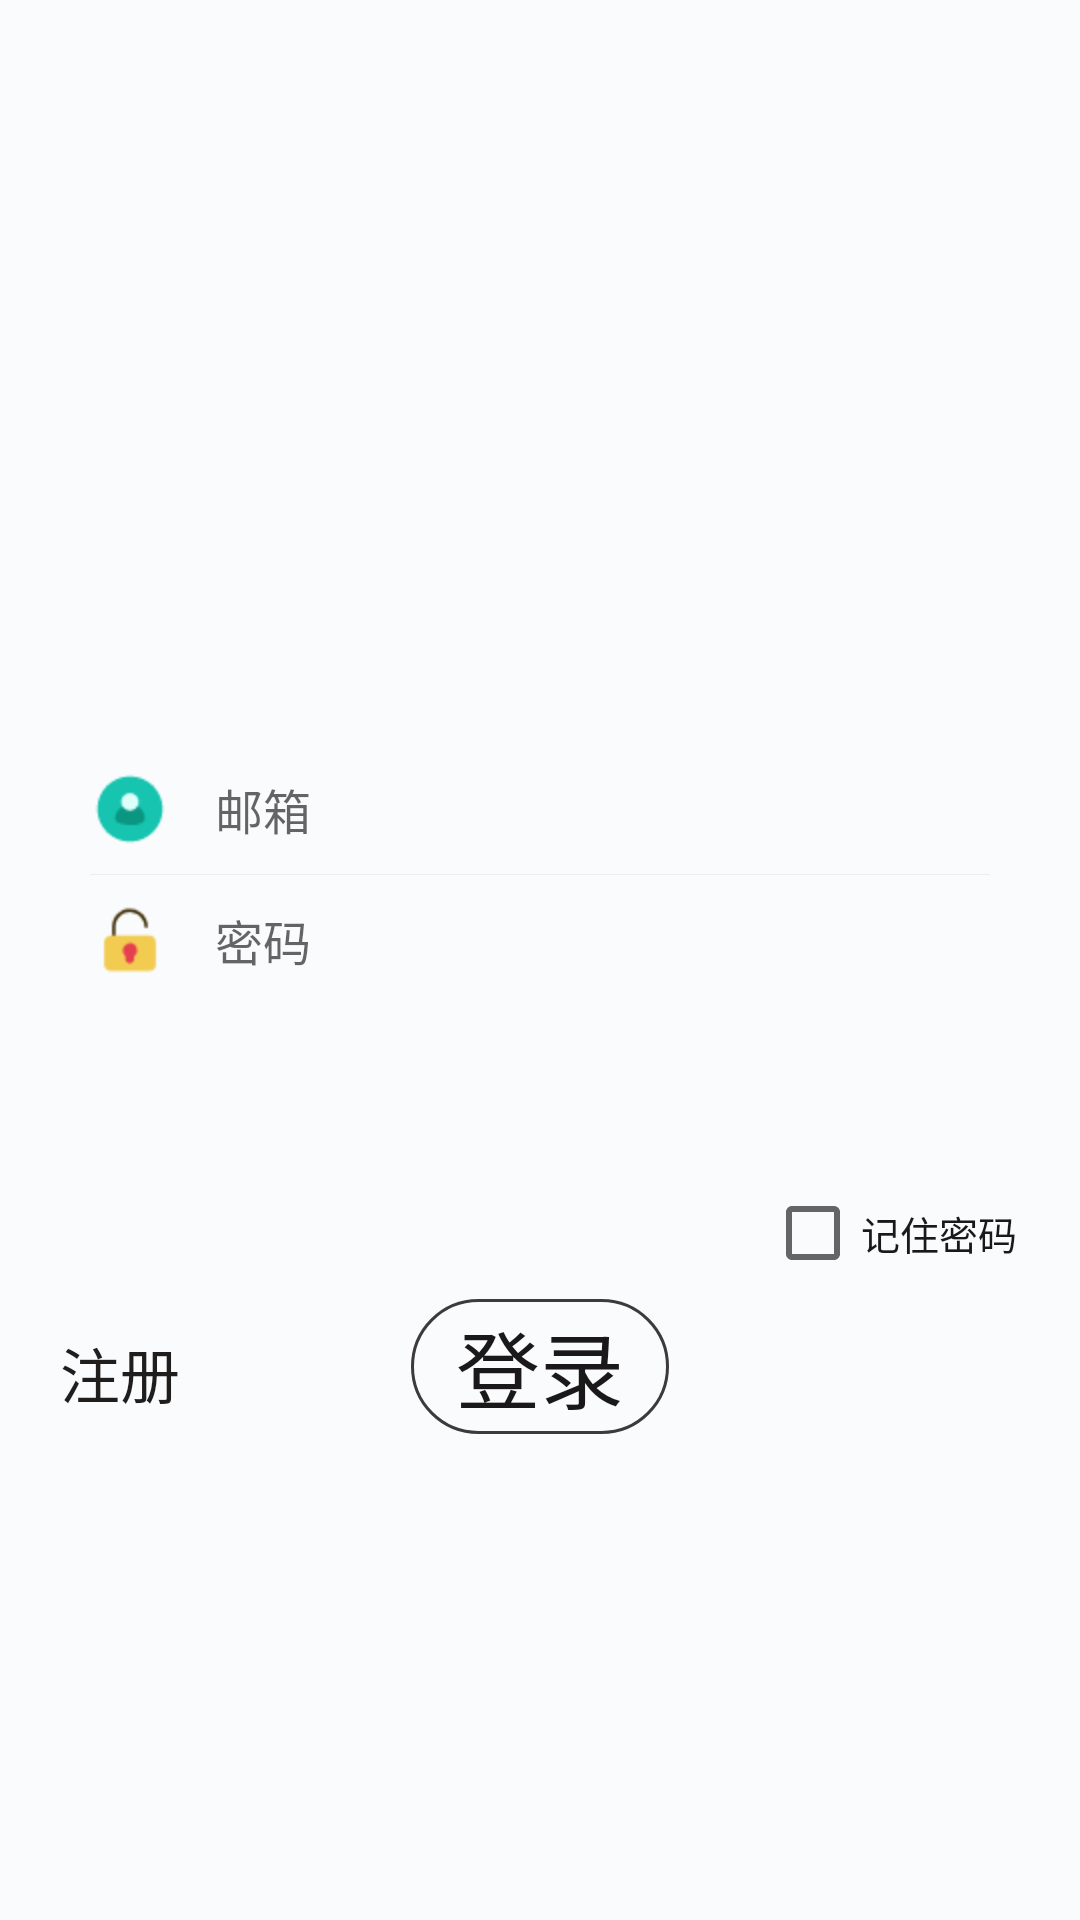

Named icons in this screenshot (1080px×1920px) and their centers, (x=x, y=y):
login pass: (x=130, y=939)
login user: (x=130, y=809)
